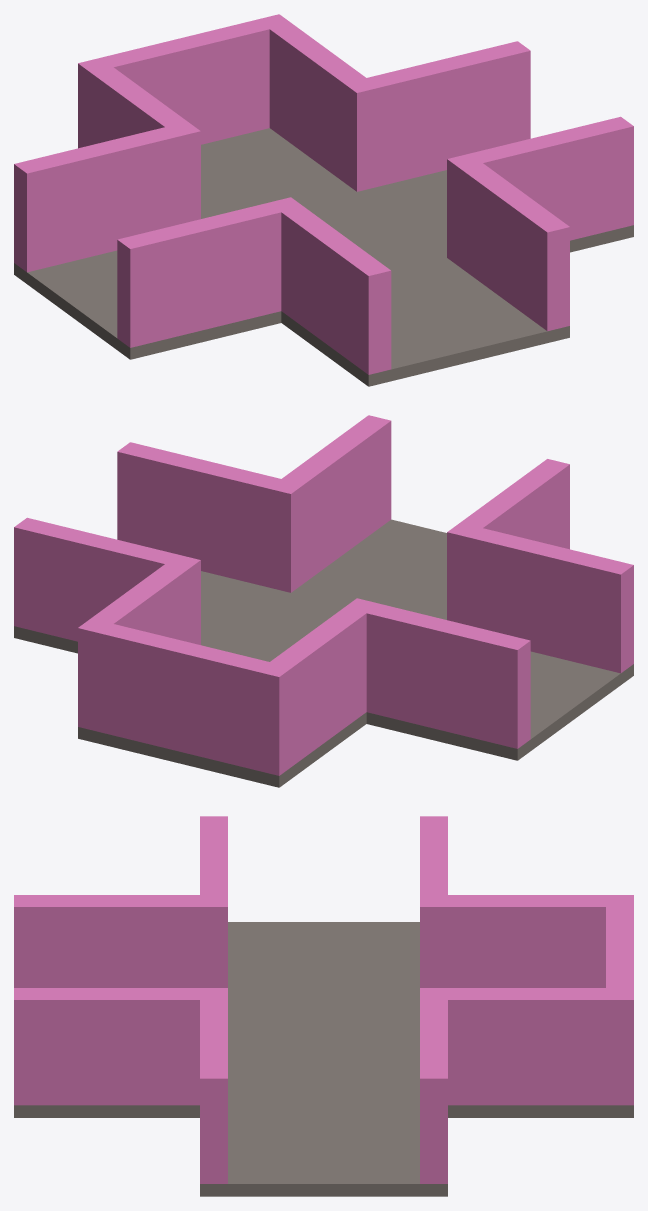
The model's file is X_wayCap1.fbx.
3 renders of one model, top to bottom at view 1: azimuth 30°, elevation 25°; view 2: azimuth 150°, elevation 25°; view 3: azimuth 270°, elevation 25°, orthographic. The views are drawn at different scales.
Parts seen in each view (by area): view 1: X_wayCap1; view 2: X_wayCap1; view 3: X_wayCap1.
Part boxes in pixels (x1,y1,x2,y2): X_wayCap1: (14, 14, 633, 386); X_wayCap1: (14, 415, 633, 787); X_wayCap1: (14, 816, 633, 1196).
Bounding box in the file's own units: 2000 × 420 × 2000.
